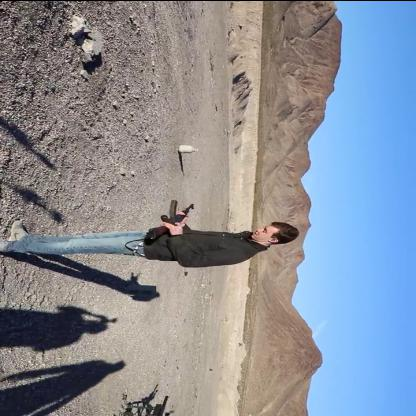long weapon: (147, 193, 201, 244)
